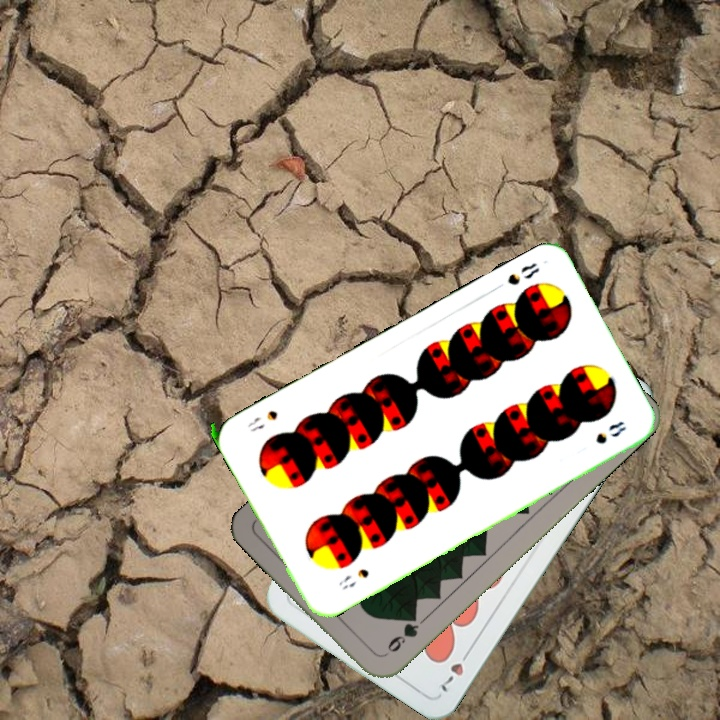G9: (383, 609, 422, 655)
H7: (433, 644, 474, 695)
S8: (503, 258, 542, 288), (334, 564, 372, 593)
